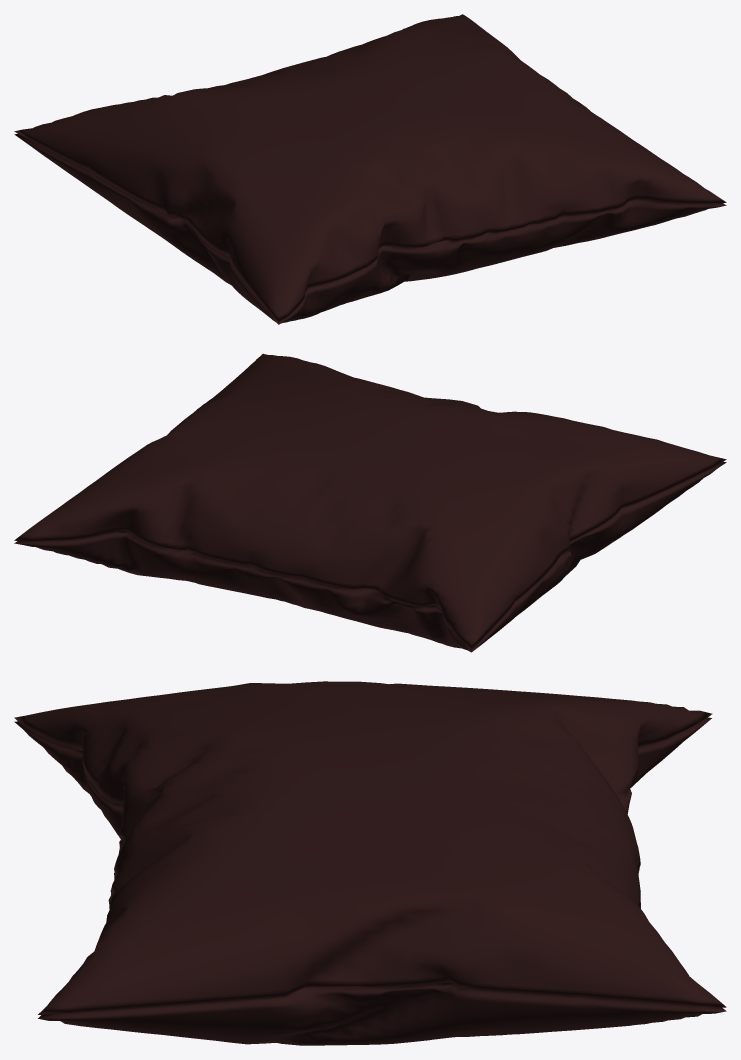
Rendered from pillow.glb.
3 renders of one model, top to bottom at view 1: azimuth 30°, elevation 25°; view 2: azimuth 150°, elevation 25°; view 3: azimuth 270°, elevation 25°, orthographic. The views are drawn at different scales.
Visible parts, largest first — view 1: Cube.001; view 2: Cube.001; view 3: Cube.001.
Boxes of the visible parts, box(x1,y1,x2,y2) form: Cube.001: box(14, 14, 726, 324); Cube.001: box(14, 353, 726, 652); Cube.001: box(14, 681, 726, 1045).
Size of the model in its own units: 1.39 by 0.4185 by 1.39.
